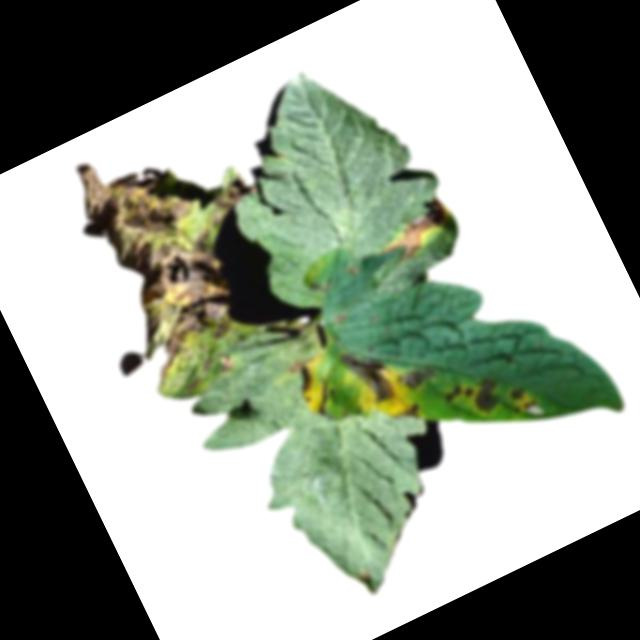Early_blight: (55, 98, 328, 410), (360, 191, 460, 274), (336, 338, 402, 416), (438, 369, 499, 426), (281, 351, 328, 403), (398, 358, 438, 393), (506, 378, 540, 415), (392, 400, 425, 428)
